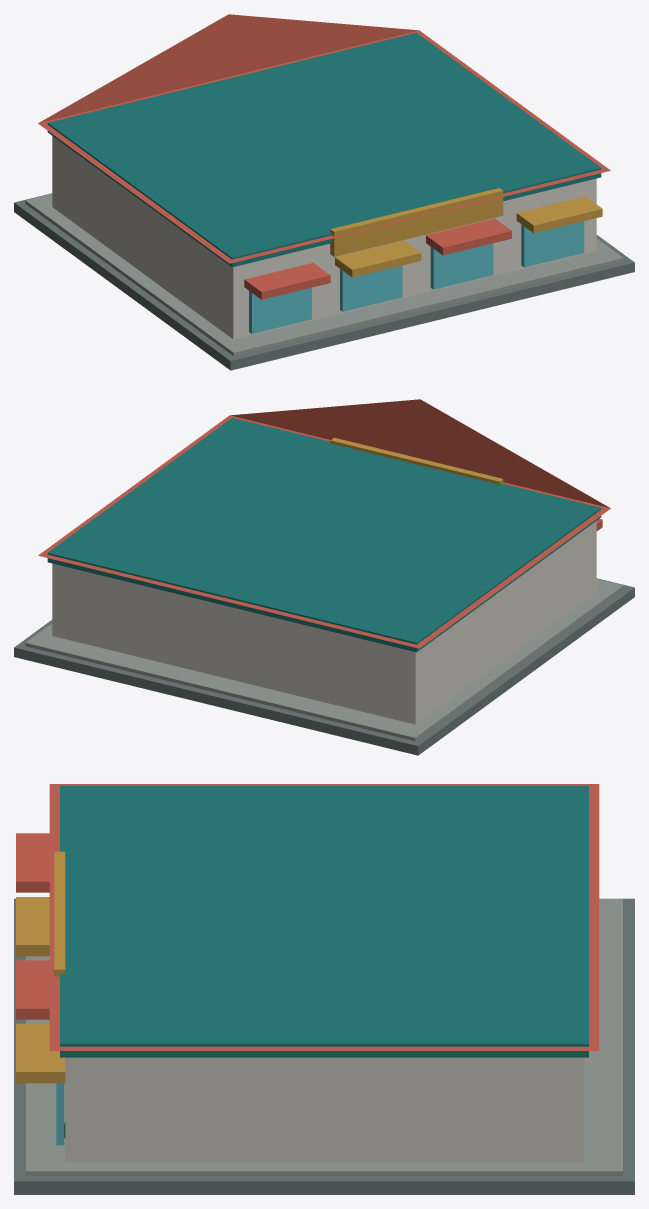
Rendered from market_lv1.glb.
3 views of the same model, one above another, from view 1: azimuth 30°, elevation 25°; view 2: azimuth 150°, elevation 25°; view 3: azimuth 270°, elevation 25° (orthographic). The views are drawn at different scales.
Visible parts, largest first — view 1: rough, glossy; view 2: rough; view 3: rough.
Boxes of the visible parts, x1,y1,x2,y2 form: rough: (14, 14, 634, 370); glossy: (249, 221, 584, 333); rough: (14, 399, 634, 755); rough: (14, 784, 634, 1194).
Size of the model in its own units: 9.8 by 3.65 by 9.1.
